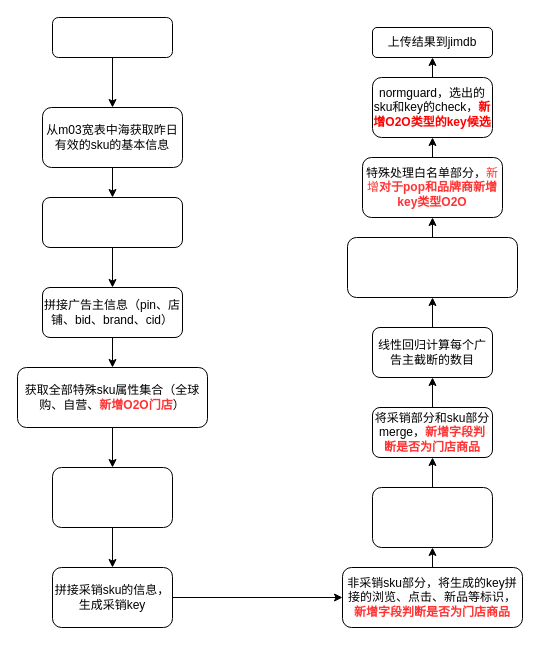
This 540x645 diagram has some shape labels left out. Each missing label, with the box of its shape:
单独处理采销部分，拼接sku的浏览、点击、新品等标识: (372, 486, 492, 548)
按照sku的信息，拼接不同的选品key: (52, 466, 172, 528)
根据截断数目生成key到sku list的映射， 对于pop和品牌商新增key类型O2O: (346, 236, 518, 298)
获取历史20天全部sku的曝光和点击，计算ctr: (42, 196, 182, 248)
计算历史2个月内全部sku的浏览和销量: (52, 16, 172, 58)
